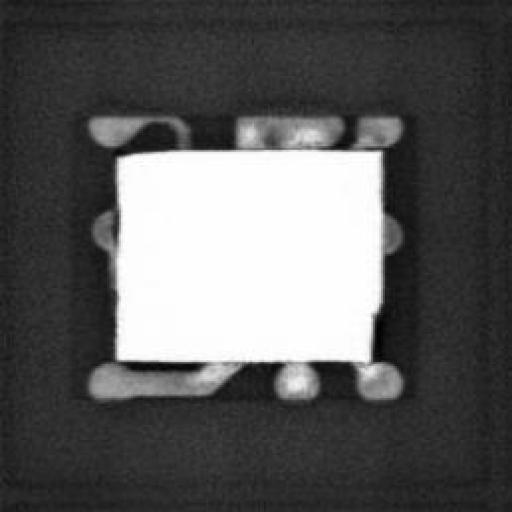DIE_BROKEN: (363, 303, 383, 364)
